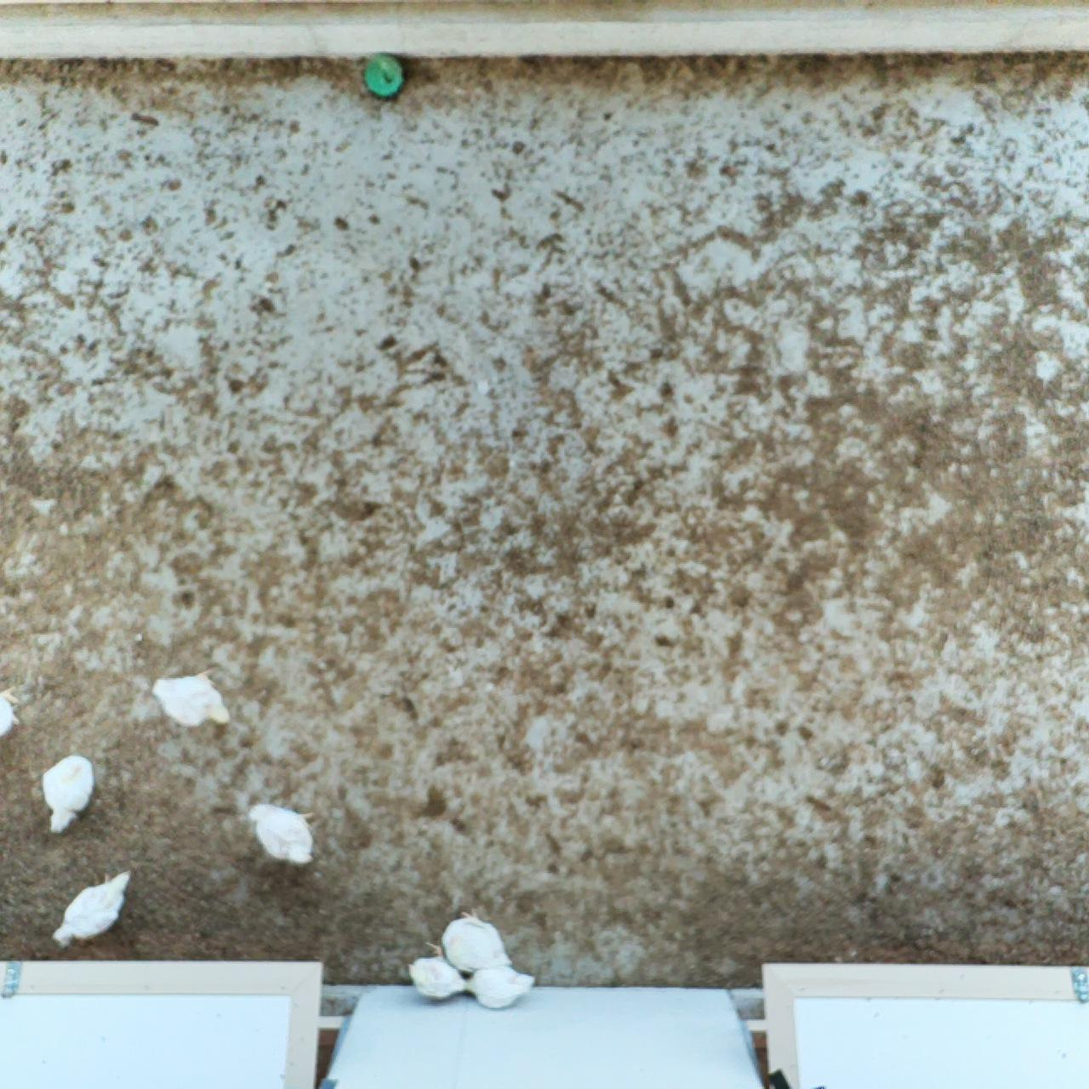chicken: (53, 867, 140, 951), (426, 904, 516, 975), (147, 662, 235, 734), (245, 796, 320, 869), (37, 750, 100, 834), (464, 960, 539, 1013), (403, 952, 468, 1003), (0, 681, 26, 736)
